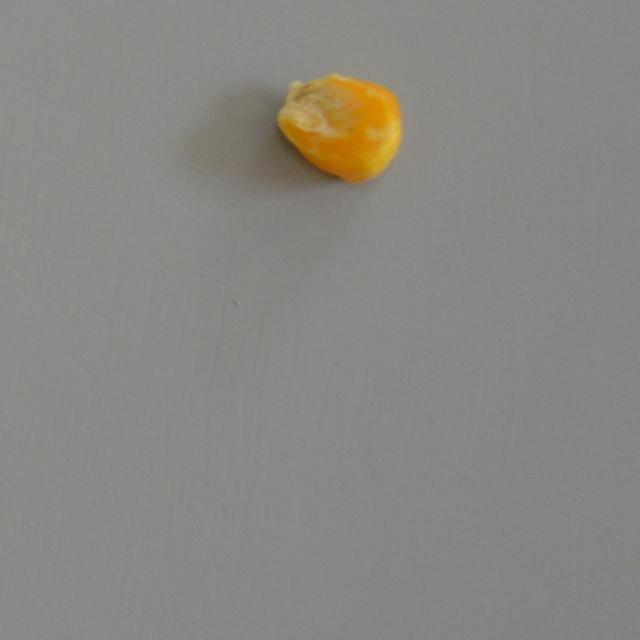no_desgerminado: (276, 71, 402, 186)
